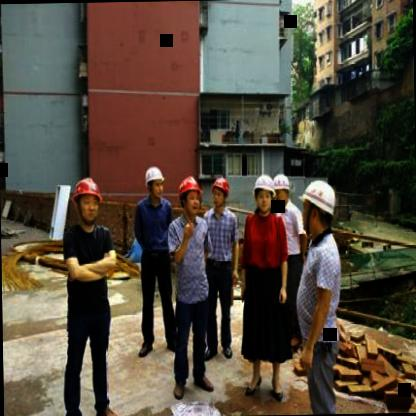helmet: (298, 178, 338, 238), (72, 176, 104, 224), (178, 174, 204, 218), (253, 170, 276, 212), (142, 163, 166, 200), (209, 174, 229, 208), (272, 172, 290, 202)
